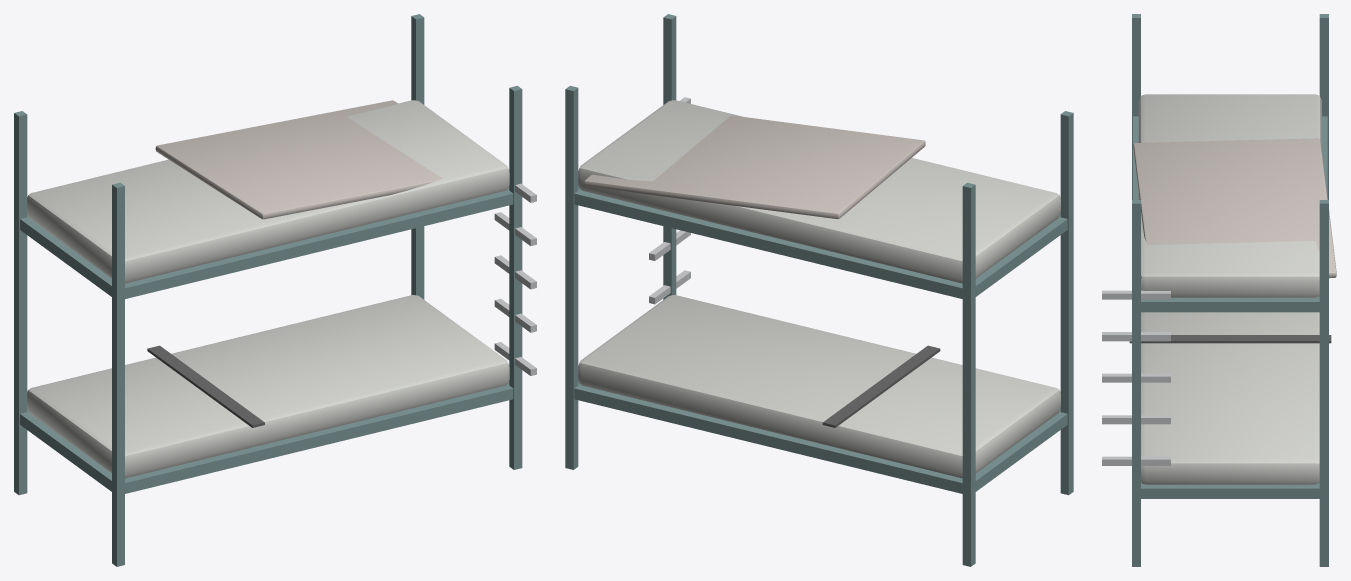
Rendered from bunk_bed.glb.
3 views of the same model, side by side, from view 1: azimuth 30°, elevation 25°; view 2: azimuth 150°, elevation 25°; view 3: azimuth 270°, elevation 25° (orthographic). The views are drawn at different scales.
Visible parts, largest first — view 1: bunk_bed; view 2: bunk_bed; view 3: bunk_bed.
Boxes of the visible parts, x1,y1,x2,y2 form: bunk_bed: (14, 14, 536, 566); bunk_bed: (565, 14, 1073, 566); bunk_bed: (1102, 14, 1336, 566).
Size of what is drawn, in the model's own units: 1.96 by 1.75 by 1.02.
